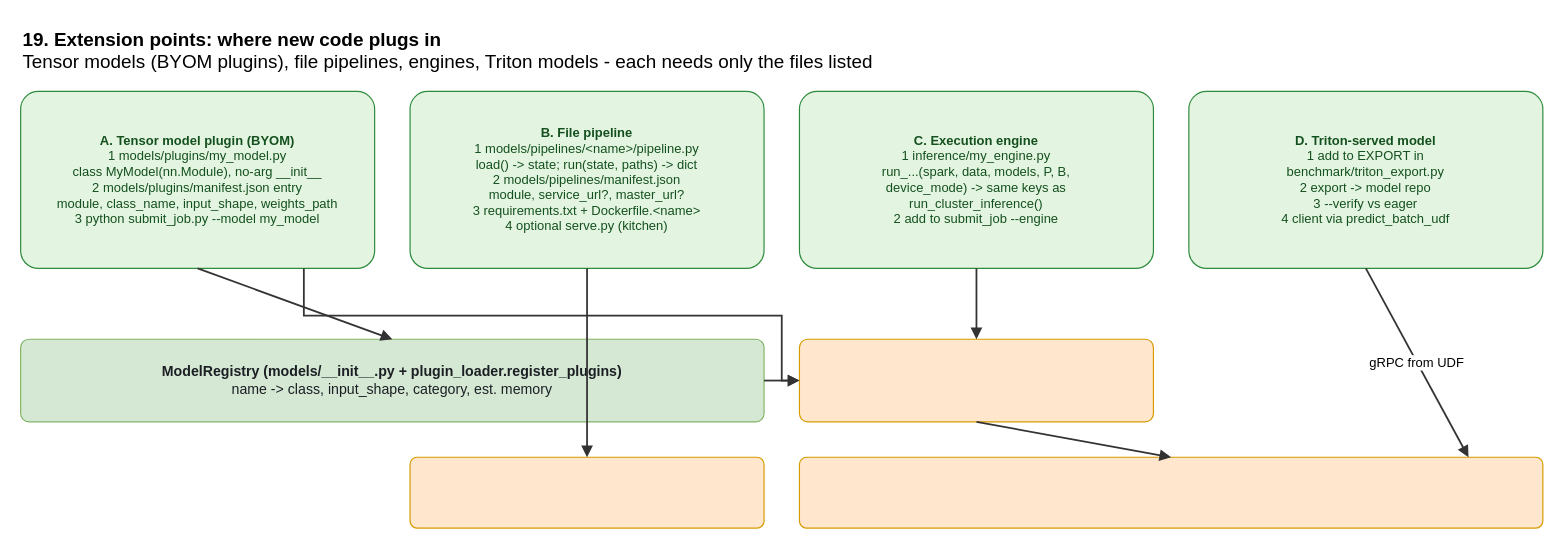
This 1563x549 diagram has some shape labels left out. The shapes that lost their labels are listed below. From the top down, each one's box as (x1, y1, x2, y2) in pixels, then its label:
(798, 338, 1153, 422): cluster_engine._get_class_map() built-ins + get_plugin_class_map()
(409, 456, 764, 528): text_pipeline_engine (cluster or via_service)
(798, 456, 1543, 528): Spark executors (Python workers): rebuild class by name, load broadcast weights
